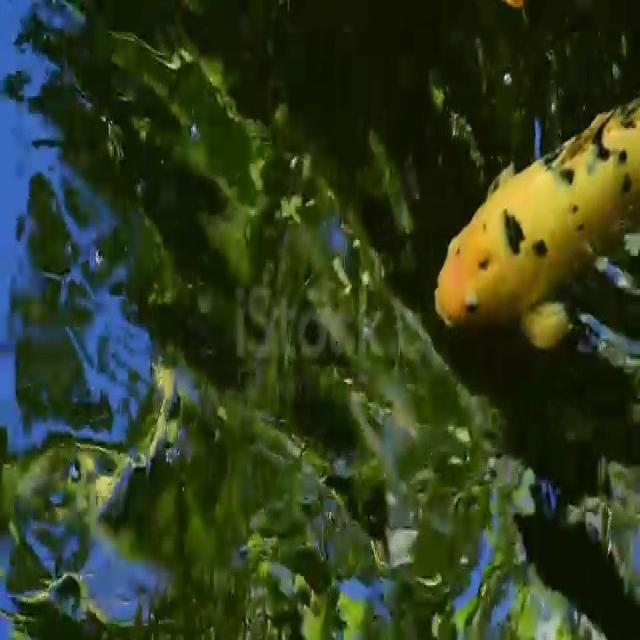fish: (424, 102, 638, 338)
